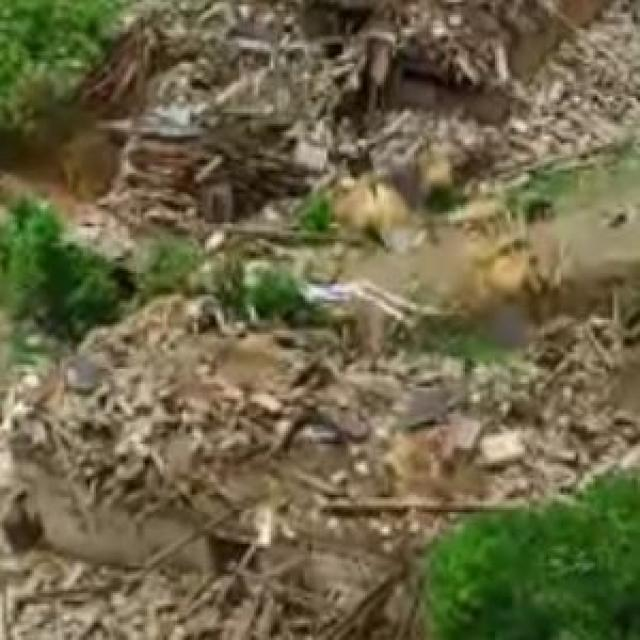collapsed_building: (38, 299, 638, 576), (119, 2, 638, 241)
